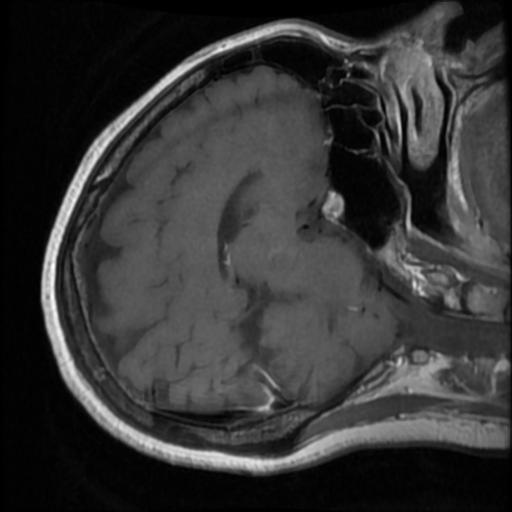pituitary tumour: (320, 192, 344, 221)
